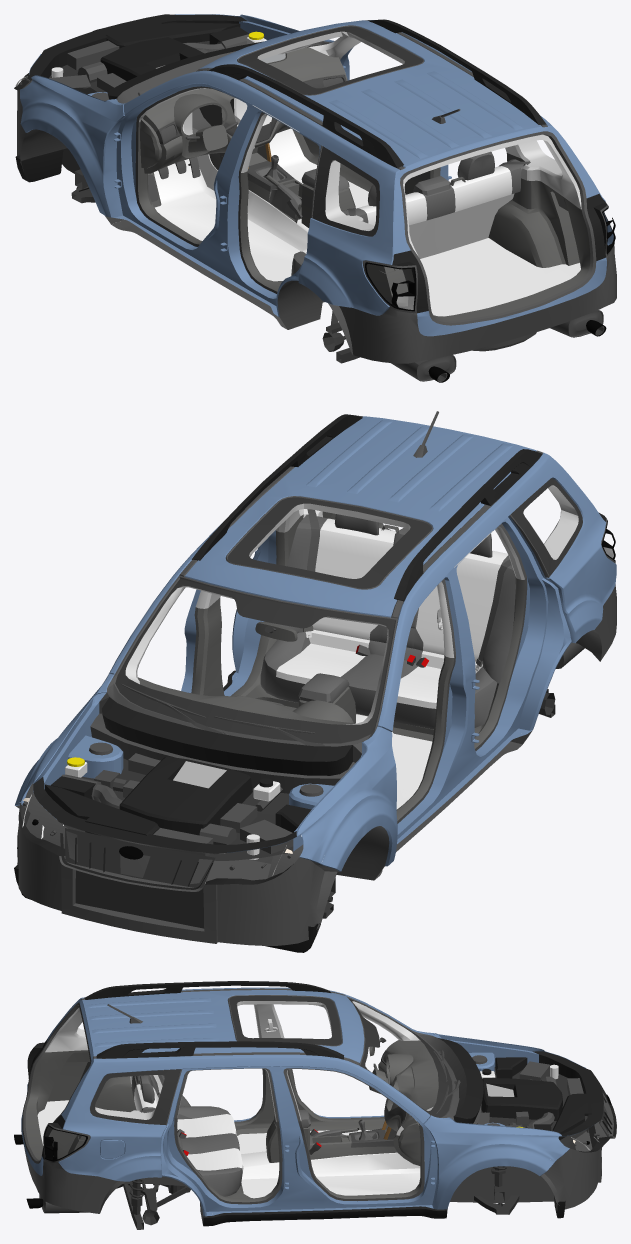
File: body.fbx
3 views of the same model, one above another, from view 1: azimuth 30°, elevation 25°; view 2: azimuth 150°, elevation 25°; view 3: azimuth 270°, elevation 25° (orthographic). The views are drawn at different scales.
Visible parts, largest first — view 1: chassis_001.001; view 2: chassis_001.001; view 3: chassis_001.001.
Part boxes in pixels (box(x1,y1,x2,y2)): chassis_001.001: box(14, 14, 616, 382); chassis_001.001: box(14, 411, 616, 952); chassis_001.001: box(14, 981, 616, 1229).
Size of the model in its own units: 296 by 214 by 628.
